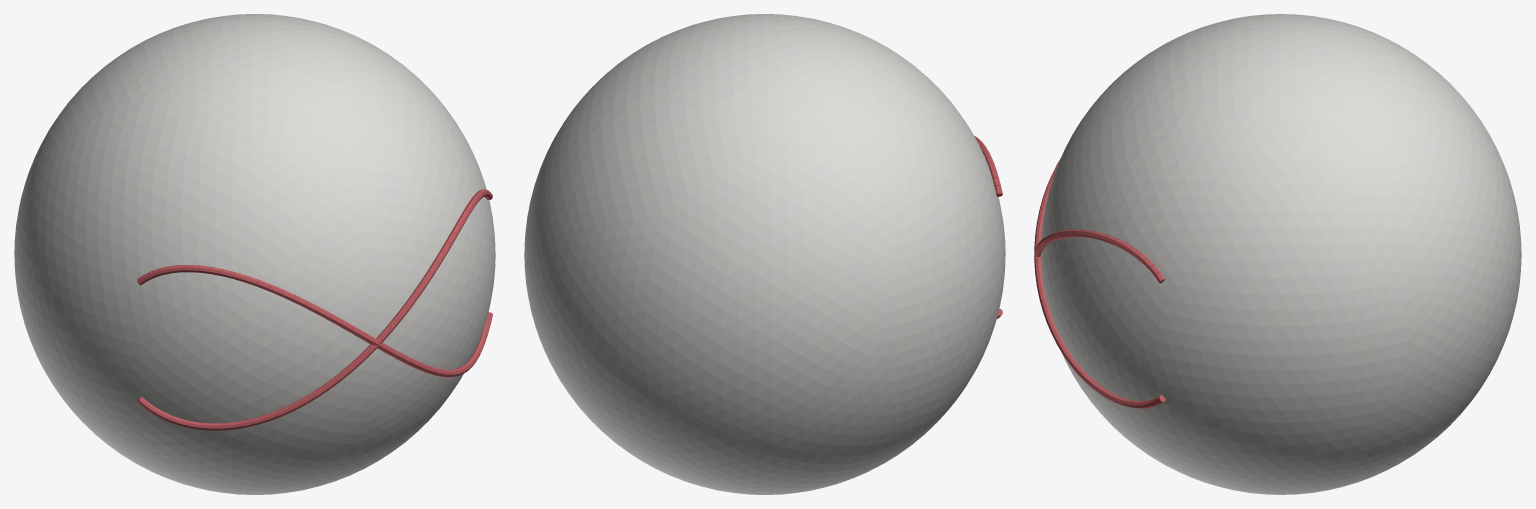
Rendered from pelota.glb.
The picture shows the model from 3 angles, left to right: view 1: azimuth 30°, elevation 25°; view 2: azimuth 150°, elevation 25°; view 3: azimuth 270°, elevation 25°; orthographic projection.
Visible parts, largest first — view 1: world; view 2: world; view 3: world.
Boxes of the visible parts, x1,y1,x2,y2 form: world: [14, 14, 495, 494]; world: [524, 14, 1005, 494]; world: [1034, 14, 1521, 494].
Size of the model in its own units: 1 by 1 by 1.01.
